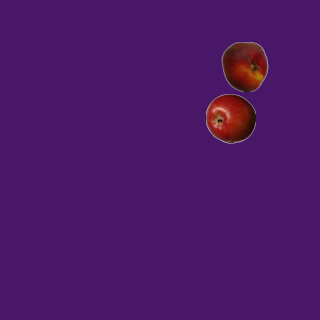Apple Braeburn: (205, 93, 255, 143)
Nectarine Flat: (219, 41, 269, 91)
